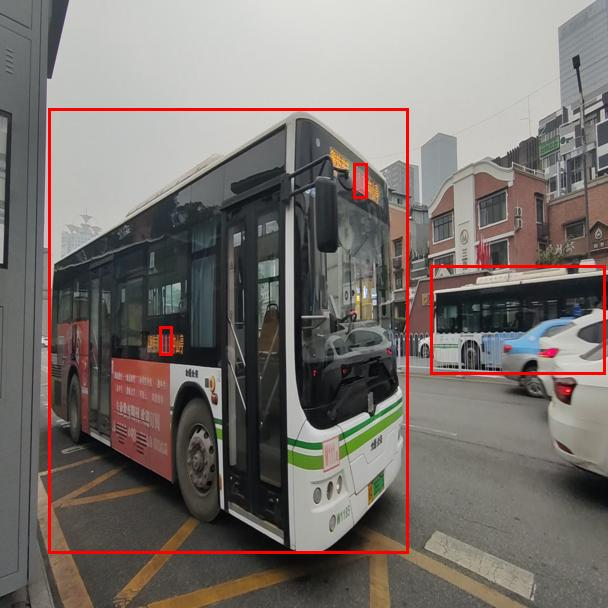bus: (48, 108, 408, 553), (430, 265, 605, 374)
screen: (353, 163, 367, 198), (159, 326, 172, 355)
